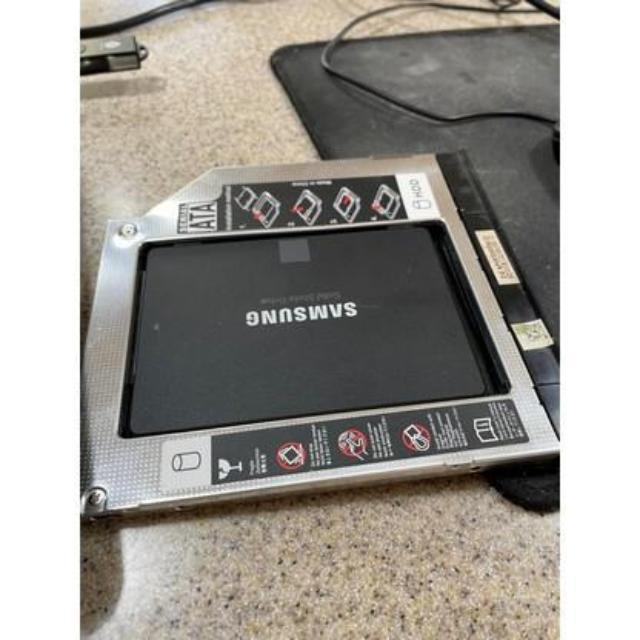DISK: (126, 226, 489, 434)
